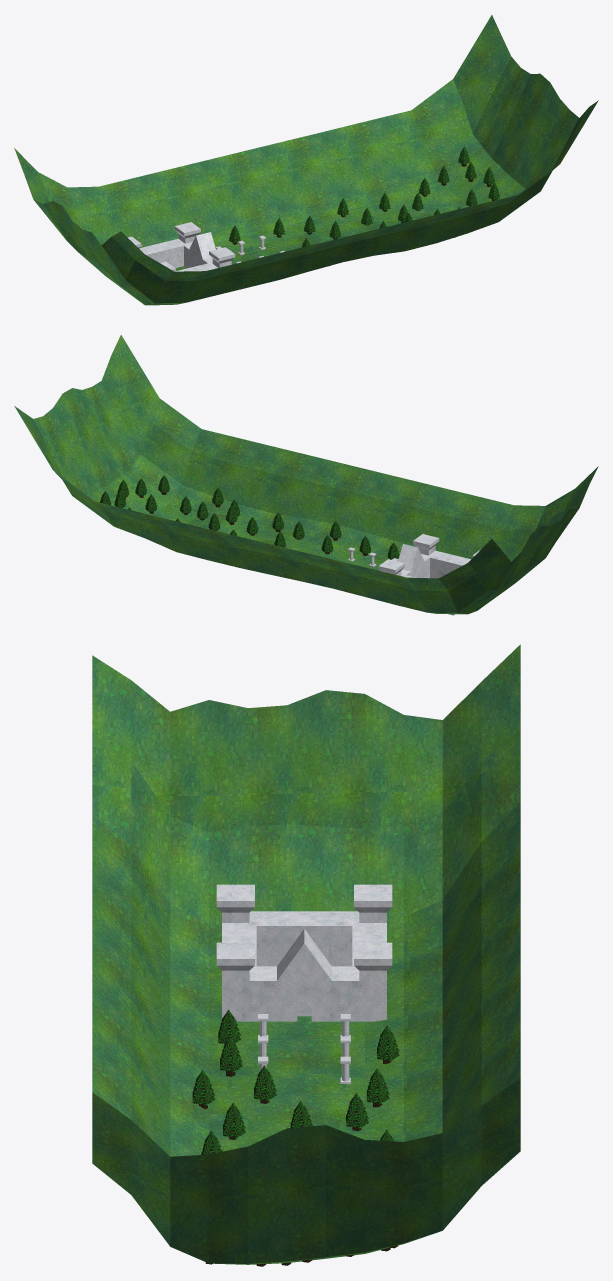
The model's file is Castle_Exterior_Forest.glb.
3 renders of one model, top to bottom at view 1: azimuth 30°, elevation 25°; view 2: azimuth 150°, elevation 25°; view 3: azimuth 270°, elevation 25°, orthographic. The views are drawn at different scales.
Visible parts, largest first — view 1: Plane, Cube.013; view 2: Plane, Cube.013; view 3: Plane, Cube.013.
Part boxes in pixels (box(x1,y1,x2,y2)): Plane: box(14, 15, 598, 305); Cube.013: box(128, 222, 235, 271); Plane: box(14, 335, 598, 614); Cube.013: box(378, 534, 480, 615); Plane: box(92, 644, 520, 1264); Cube.013: box(216, 884, 392, 1021).
Bounding box in the file's own units: 183 × 50.75 × 71.15.
4 materials, 4 textured.
